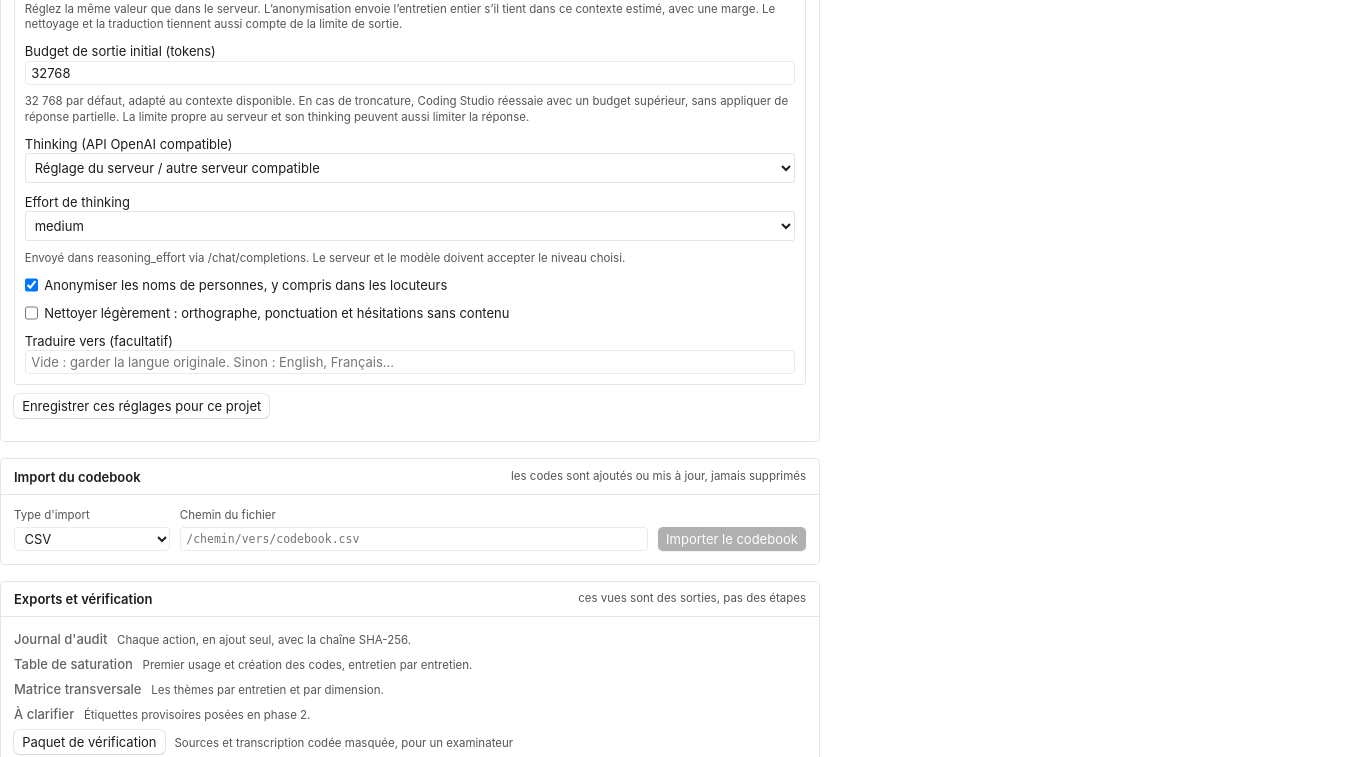
codebook import › imports with the kind and the path, and shows the counts
This screenshot has width=1366, height=757.
(page scrolled)
Select "JSON" in the dropdown labelled "Type d'import". click: (92, 539)
box: x1=14 y1=527 x2=170 y2=551
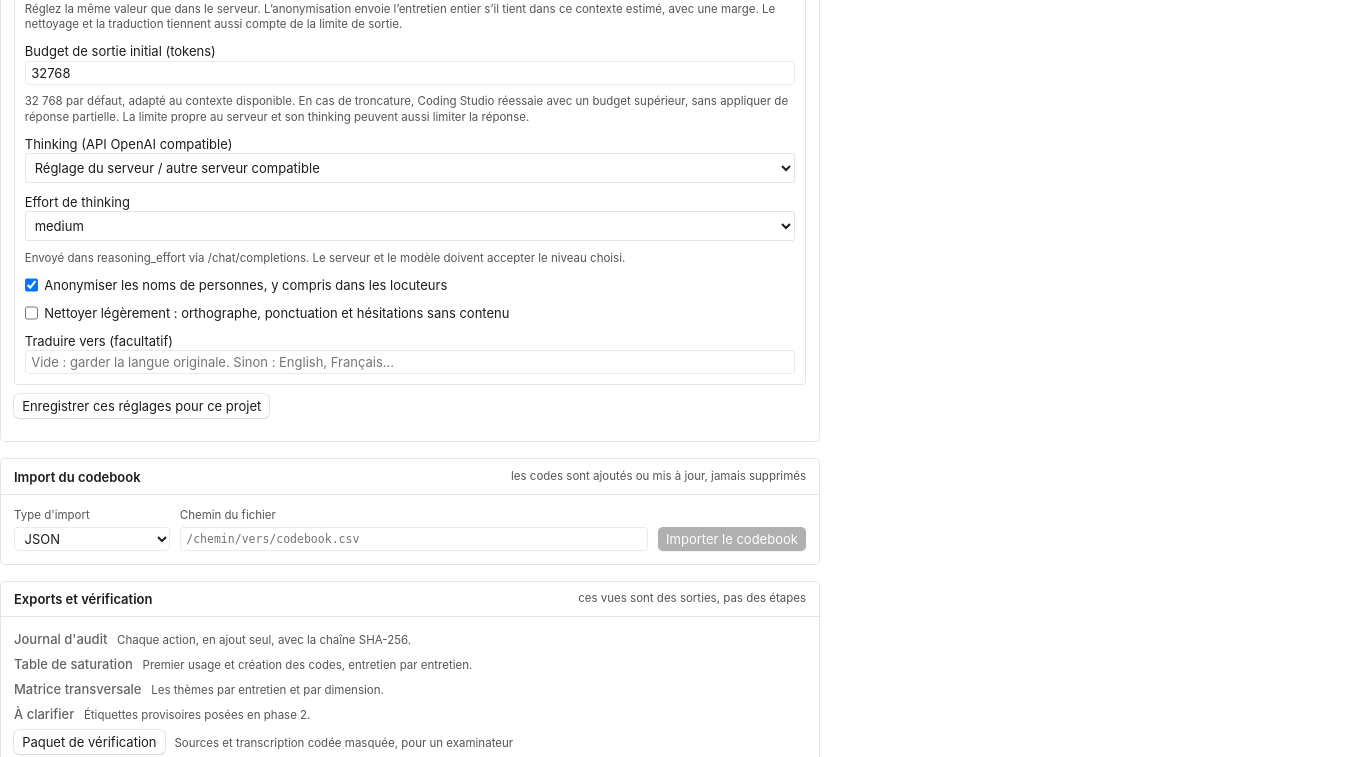
Type "/data/codebook.json" into the field labelled "Chemin du fichier". click: (414, 539)
box: x1=180 y1=527 x2=648 y2=551
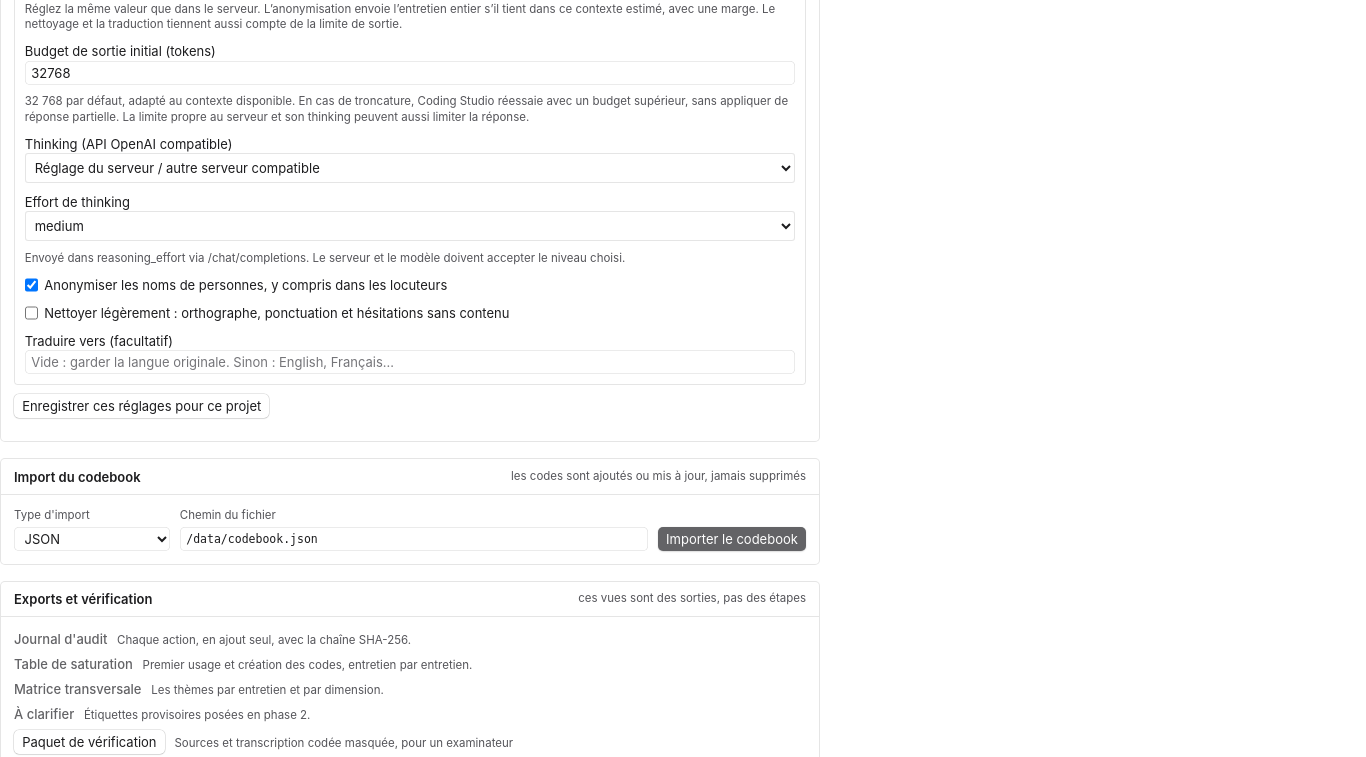
Click the button "Importer le codebook". click: (732, 539)
box: x1=658 y1=527 x2=806 y2=551
(page scrolled)
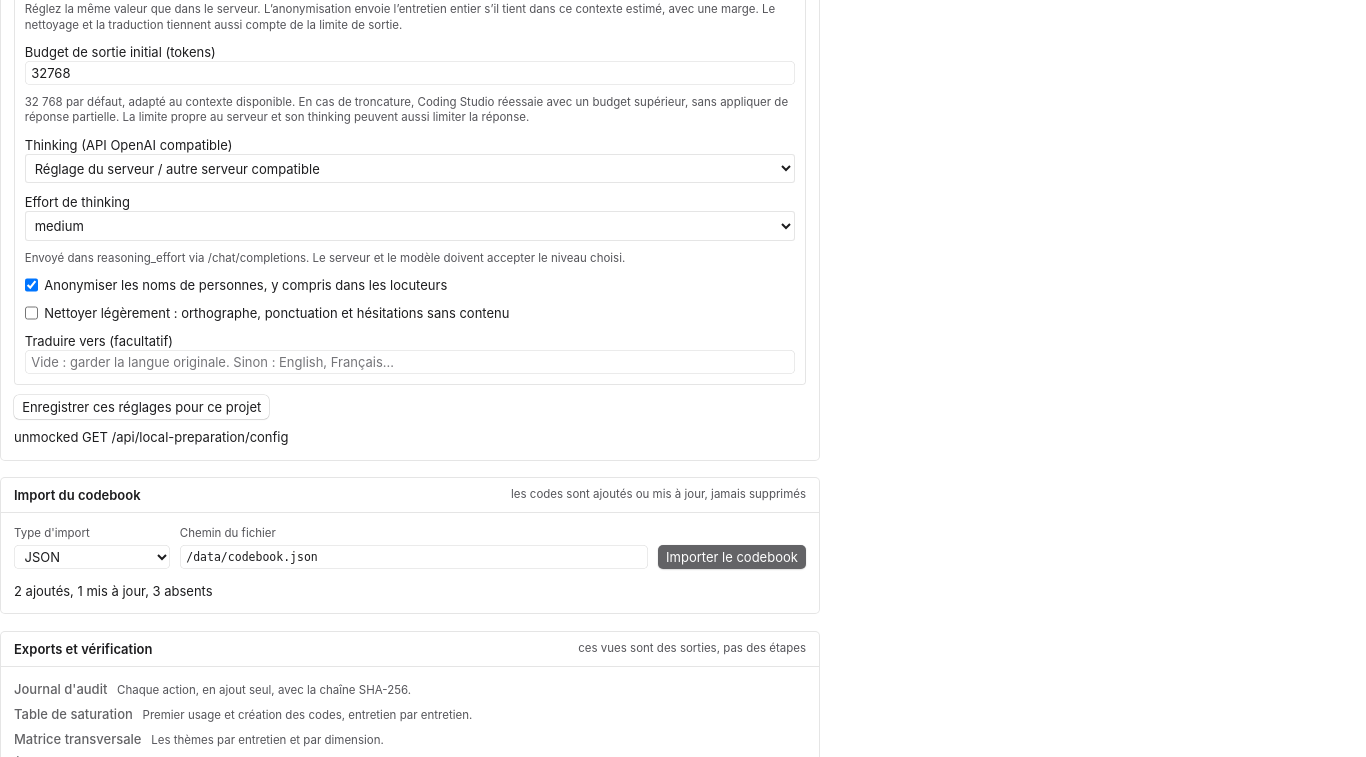
Expected: the text "2 ajoutés, 1 mis à jour, 3 absents" is shown, x1=14 y1=583 x2=213 y2=599
